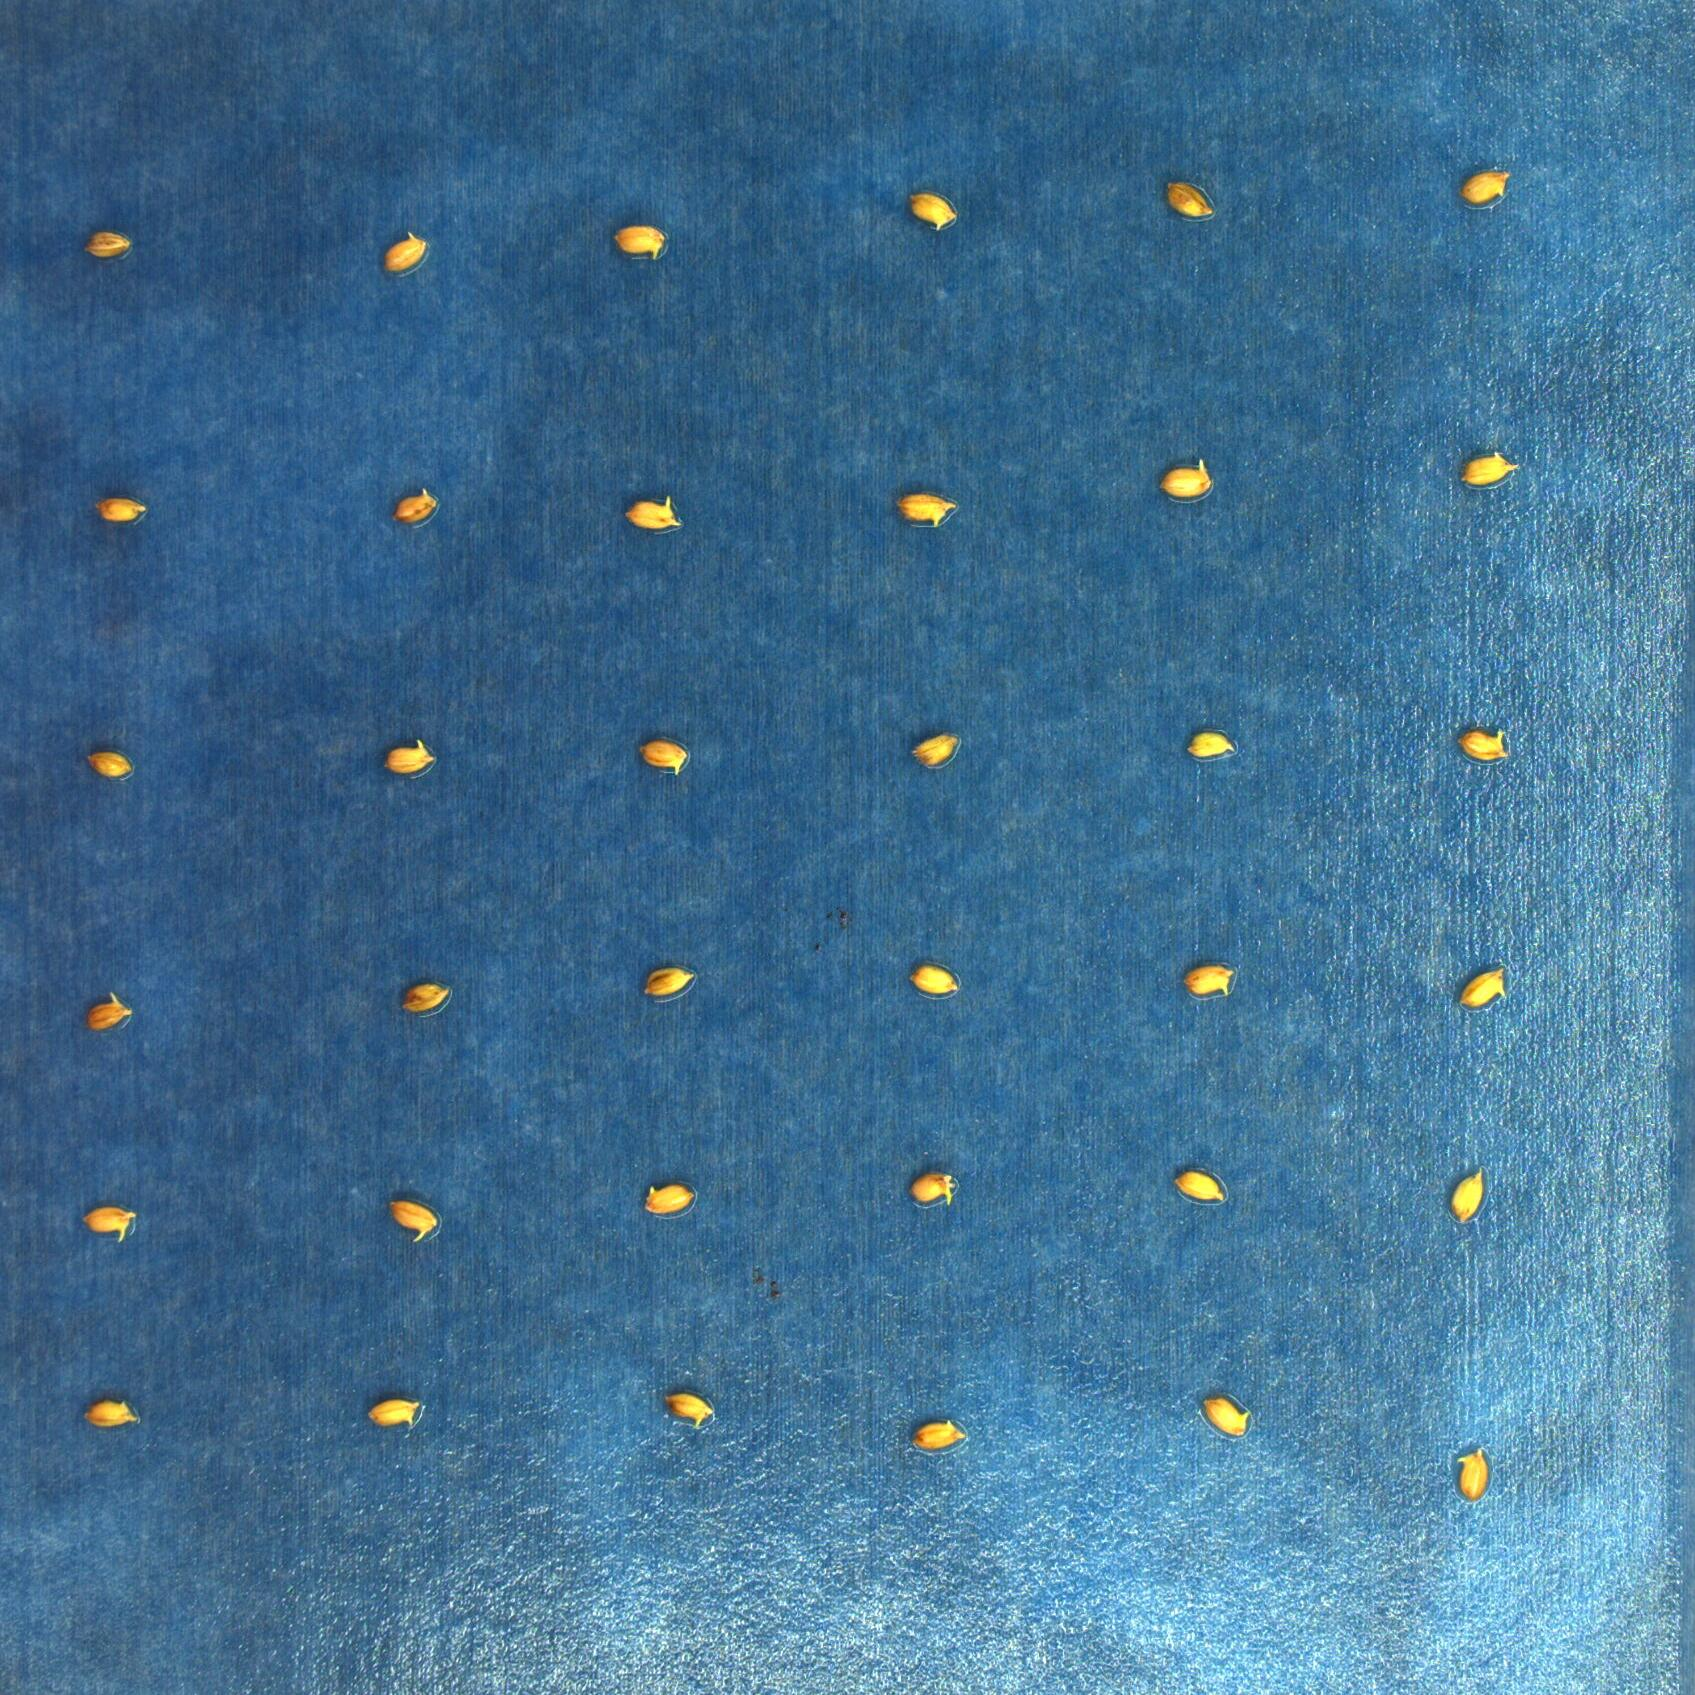not sprout: (1152, 459, 1223, 500), (893, 490, 962, 528), (1203, 1392, 1253, 1444), (385, 1194, 438, 1242), (660, 1389, 722, 1430), (1451, 1440, 1492, 1503), (1456, 452, 1523, 487), (1166, 179, 1222, 220), (903, 189, 959, 230), (81, 1205, 137, 1245), (612, 224, 669, 262), (622, 494, 680, 532), (1454, 967, 1506, 1010), (1177, 1167, 1229, 1209), (1177, 965, 1245, 997), (636, 737, 691, 776), (1178, 730, 1245, 761), (396, 979, 449, 1018), (638, 1181, 691, 1220), (82, 993, 133, 1032), (1450, 1163, 1482, 1223), (382, 231, 427, 275), (1462, 168, 1513, 205), (911, 962, 962, 1000), (906, 1420, 962, 1454), (643, 965, 700, 998), (390, 487, 439, 525), (911, 730, 962, 765), (365, 1400, 425, 1430), (1454, 730, 1512, 761), (385, 740, 432, 776), (910, 1172, 959, 1203), (85, 1402, 138, 1430), (82, 230, 132, 258), (92, 500, 149, 523), (85, 750, 132, 778)
